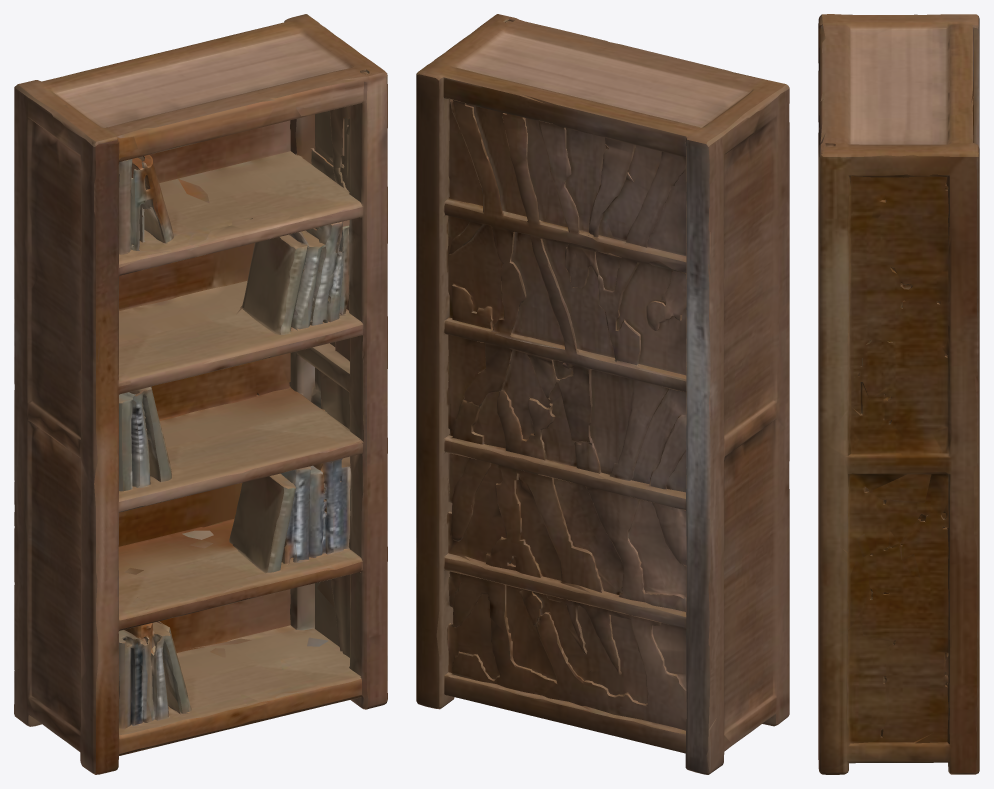
File: L_BOOKSHELF.industrial.glb
3 renders of one model, left to right at view 1: azimuth 30°, elevation 25°; view 2: azimuth 150°, elevation 25°; view 3: azimuth 270°, elevation 25°, orthographic.
Visible parts, largest first — view 1: geometry_0; view 2: geometry_0; view 3: geometry_0.
Part boxes in pixels (<box>): geometry_0: <box>14,14,387,774</box>; geometry_0: <box>416,14,789,774</box>; geometry_0: <box>818,14,979,774</box>.
Size of the model in its own units: 0.8787 by 1.8 by 0.4237.
1 material, 1 textured.
